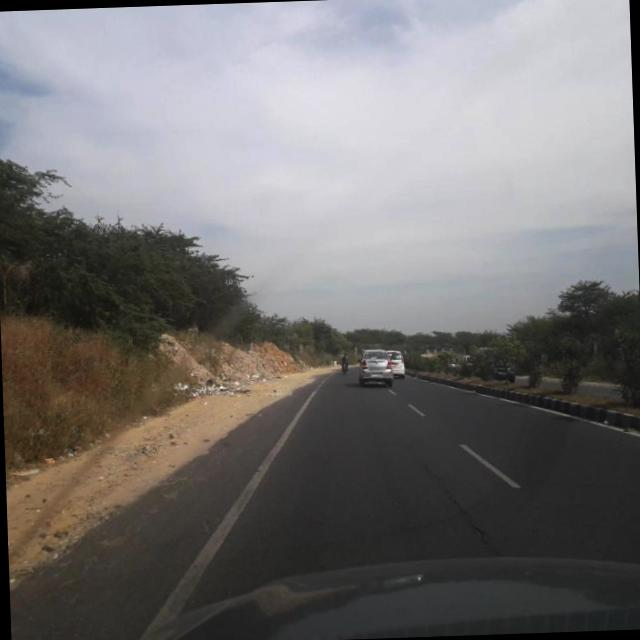pothole: (412, 451, 502, 558)
